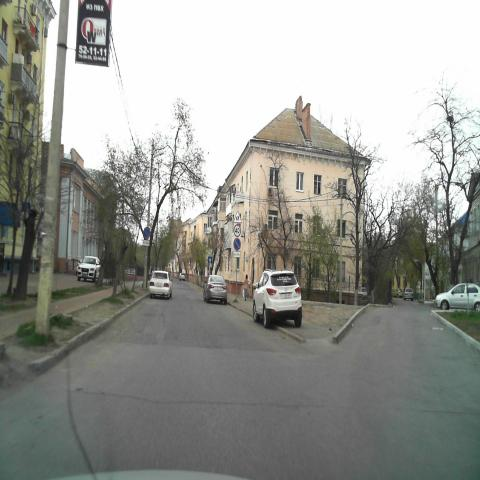1_23: (232, 213, 241, 226)
